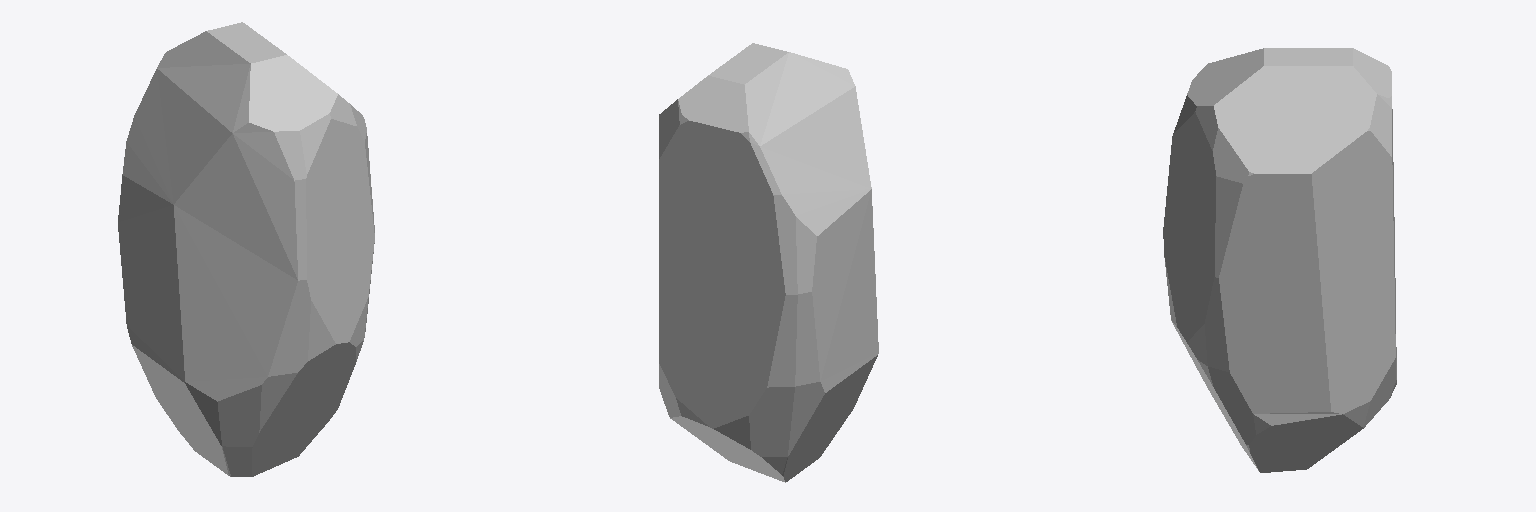
The model's file is Model_Crystal_Blender.obj.
The picture shows the model from 3 angles: view 1: azimuth 30°, elevation 25°; view 2: azimuth 150°, elevation 25°; view 3: azimuth 270°, elevation 25°; orthographic projection.
Parts seen in each view (by area): view 1: Sphere_Sphere.001; view 2: Sphere_Sphere.001; view 3: Sphere_Sphere.001.
Part boxes in pixels (bbox=[...]): Sphere_Sphere.001: bbox=[118, 22, 374, 476]; Sphere_Sphere.001: bbox=[659, 43, 878, 482]; Sphere_Sphere.001: bbox=[1163, 48, 1396, 472].
Bounding box in the file's own units: 1.63 × 3.37 × 1.77.